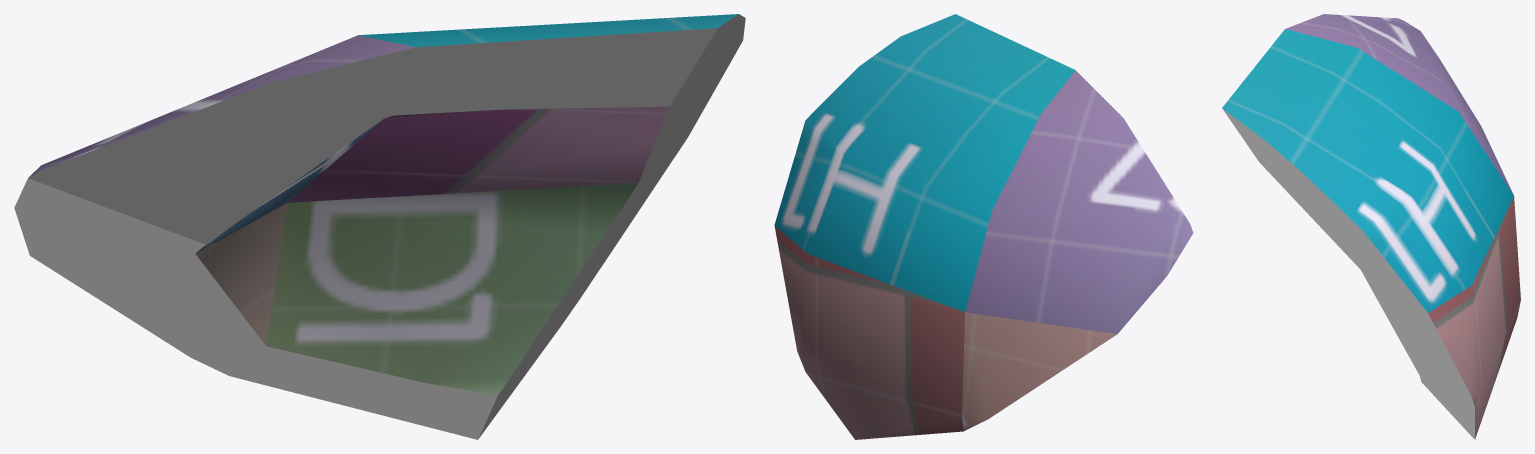
File: MediumVase_SHAT_cell_007.fbx
3 views of the same model, side by side, from view 1: azimuth 30°, elevation 25°; view 2: azimuth 150°, elevation 25°; view 3: azimuth 270°, elevation 25° (orthographic). The views are drawn at different scales.
Parts seen in each view (by area): view 1: MediumVase_SHAT_cell_007; view 2: MediumVase_SHAT_cell_007; view 3: MediumVase_SHAT_cell_007.
Part boxes in pixels (box(x1,y1,x2,y2)): MediumVase_SHAT_cell_007: box(14, 14, 745, 439); MediumVase_SHAT_cell_007: box(774, 14, 1193, 439); MediumVase_SHAT_cell_007: box(1222, 14, 1520, 439).
Size of the model in its own units: 0.4773 by 0.373 by 0.2922.
2 materials, 1 textured.
